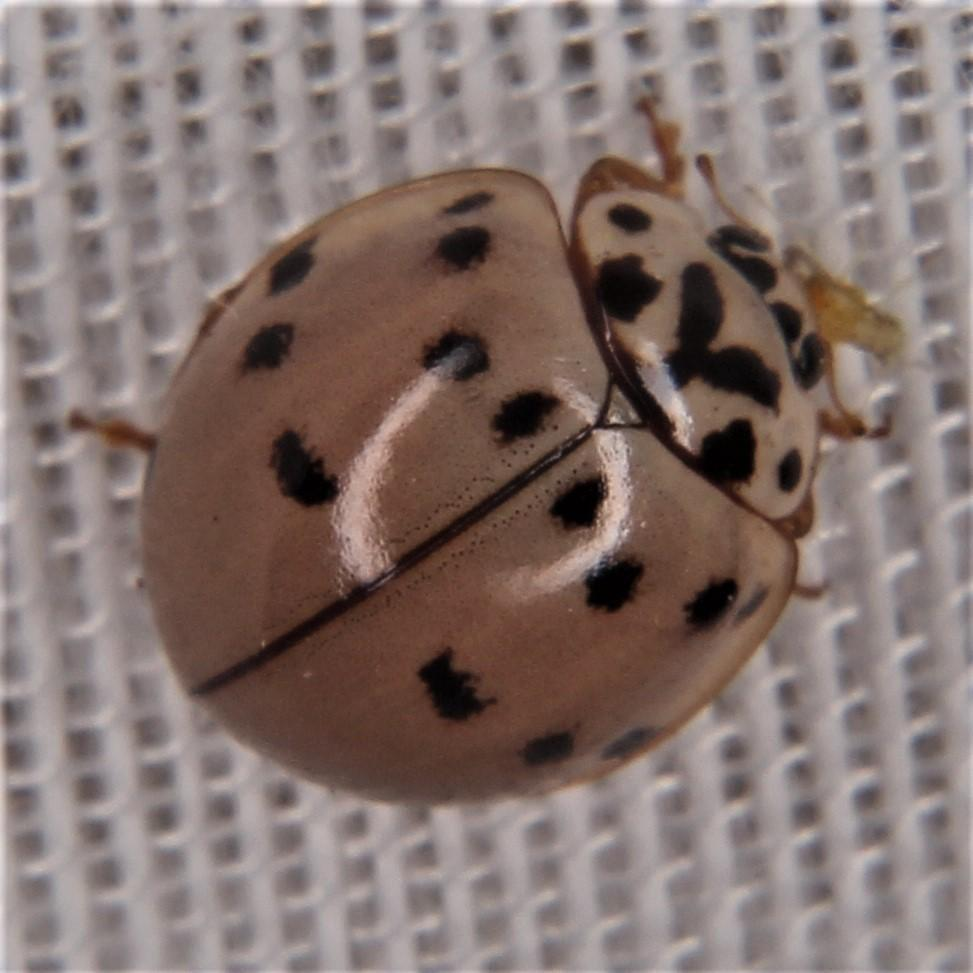ladybug: (66, 89, 914, 809)
